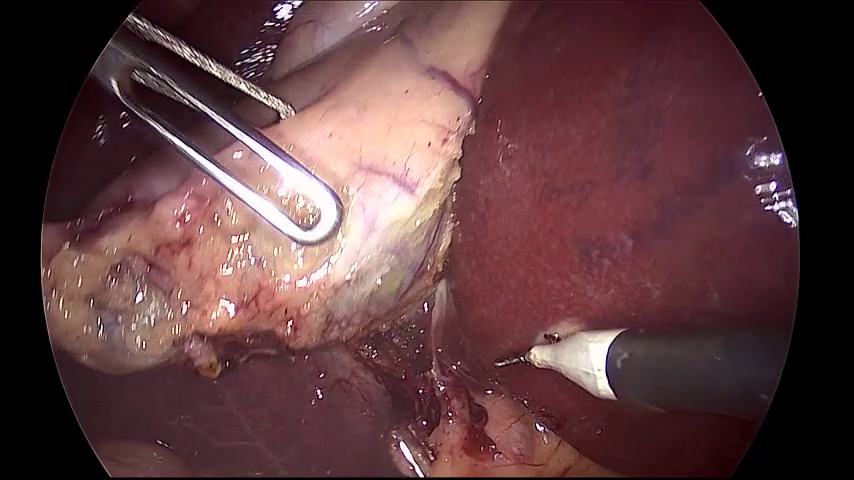grasper: (91, 12, 337, 242)
lhook: (496, 320, 792, 425)
